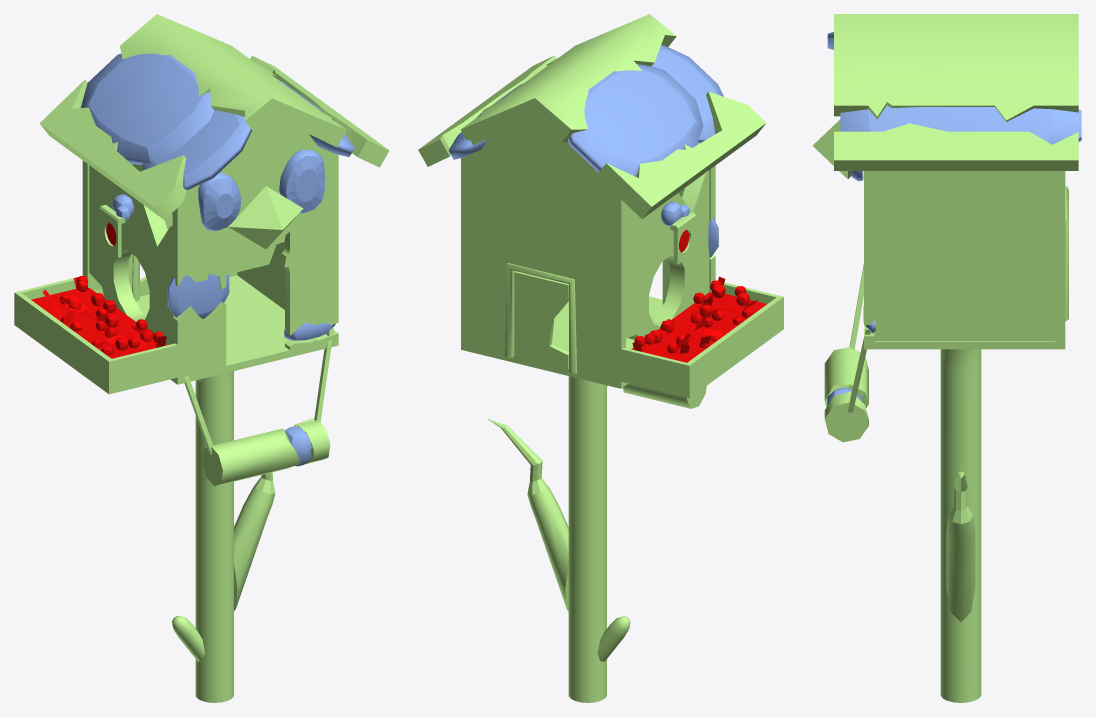
The model's file is LimeRoomModel_Complete.fbx.
3 renders of one model, left to right at view 1: azimuth 30°, elevation 25°; view 2: azimuth 150°, elevation 25°; view 3: azimuth 270°, elevation 25°, orthographic. The views are drawn at different scales.
Parts seen in each view (by area): view 1: Object138, ZLab, Cylinder020, Box145, Box147, Plane359, Object087, Cylinder024, Box146, Cylinder023, Hedra004, Plane688 (+9 smaller); view 2: Plane664, ZLab, Cylinder020, Box145, Box147, Plane359, Object144, Cylinder023, Plane688, Box146, Object087, Object145 (+4 smaller); view 3: ZLab, Box148, Cylinder020, Box150, Cylinder023, Cylinder024, Plane664, Object087, Object138, Hedra004, Object145, Box122 (+1 smaller).
Boxes of the visible parts, x1,y1,x2,y2 form: Object138: (172, 116, 338, 377); ZLab: (39, 14, 389, 219); Cylinder020: (195, 371, 234, 702); Box145: (80, 53, 213, 165); Box147: (89, 164, 173, 344); Plane359: (14, 278, 177, 394); Object087: (136, 275, 338, 384); Cylinder024: (202, 420, 330, 486); Box146: (142, 110, 252, 190); Cylinder023: (234, 417, 314, 610); Hedra004: (229, 186, 303, 249); Plane688: (31, 287, 167, 358); Plane664: (461, 116, 625, 381); ZLab: (418, 14, 766, 218); Cylinder020: (568, 376, 606, 702); Box145: (568, 64, 703, 176); Box147: (626, 143, 709, 348); Plane359: (621, 280, 783, 398); Object144: (514, 271, 568, 368); Cylinder023: (487, 418, 568, 611); Plane688: (631, 292, 766, 362); Box146: (651, 45, 723, 143); Object087: (461, 296, 662, 388); Object145: (505, 263, 576, 373); ZLab: (834, 14, 1078, 170); Box148: (874, 171, 1054, 340); Cylinder020: (940, 349, 981, 702); Box150: (840, 105, 1081, 144); Cylinder023: (946, 471, 975, 621); Cylinder024: (824, 347, 868, 442); Plane664: (1055, 171, 1065, 341); Object087: (864, 341, 1065, 349); Object138: (864, 171, 874, 341); Hedra004: (812, 119, 851, 178); Object145: (1065, 185, 1068, 321); Box122: (848, 327, 870, 412).
Size of the model in its own units: 63.13 by 145 by 52.13.
